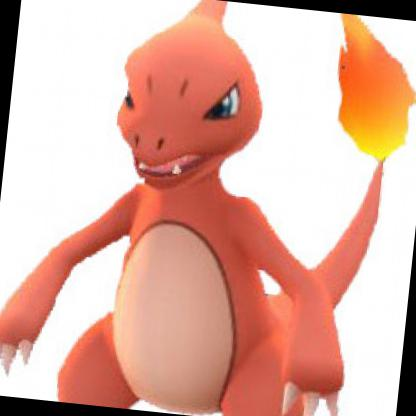Charmeleon: (26, 1, 416, 416)
